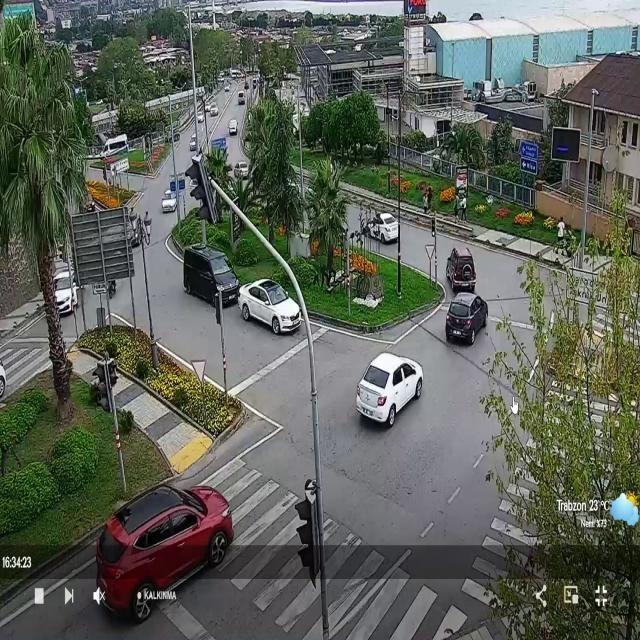Car: (97, 485, 234, 618), (354, 350, 425, 425), (240, 278, 299, 336), (444, 294, 489, 346), (52, 268, 84, 318), (447, 245, 477, 292), (364, 210, 398, 243), (161, 188, 177, 212), (234, 162, 248, 178)
Van: (180, 243, 240, 308), (100, 133, 128, 154), (228, 119, 239, 135)
